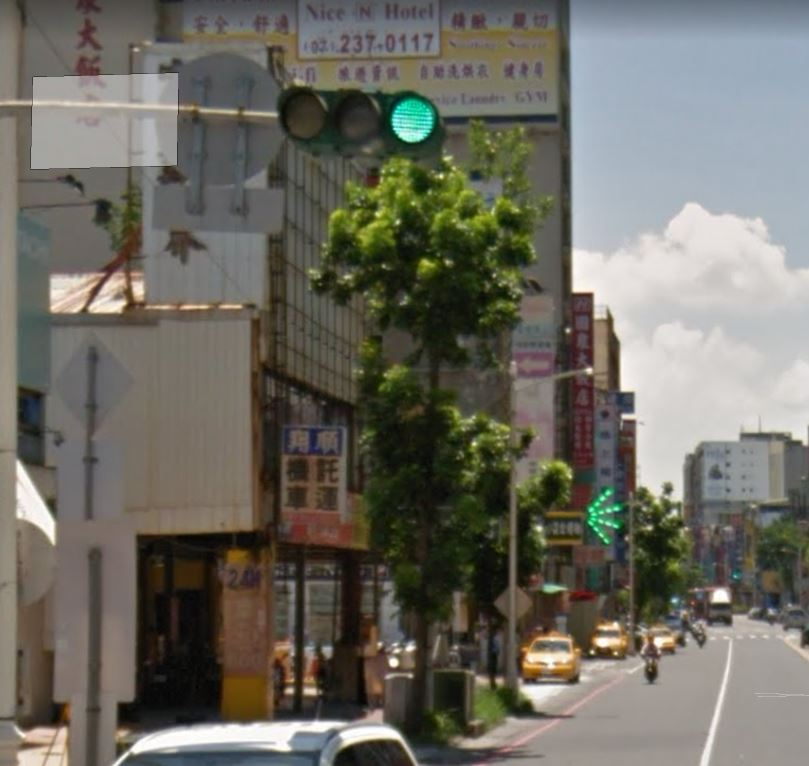Traffic_light_green: (277, 87, 447, 154)
